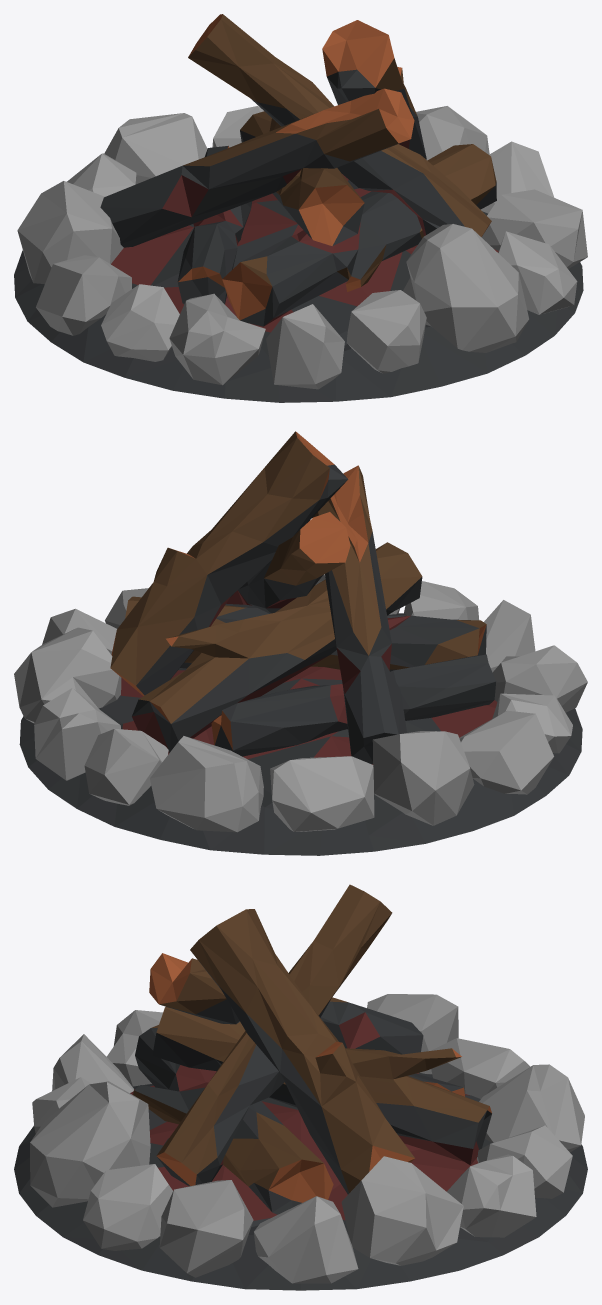
Rendered from CampFire.fbx.
3 views of the same model, one above another, from view 1: azimuth 30°, elevation 25°; view 2: azimuth 150°, elevation 25°; view 3: azimuth 270°, elevation 25° (orthographic).
Visible parts, largest first — view 1: Village_Firepit01_LOD01; view 2: Village_Firepit01_LOD01; view 3: Village_Firepit01_LOD01.
Part boxes in pixels (left/top/right/bottom): Village_Firepit01_LOD01: left=14, top=14, right=587, bottom=402; Village_Firepit01_LOD01: left=14, top=431, right=587, bottom=855; Village_Firepit01_LOD01: left=14, top=884, right=587, bottom=1290.
Size of the model in its own units: 245 by 130 by 241.
